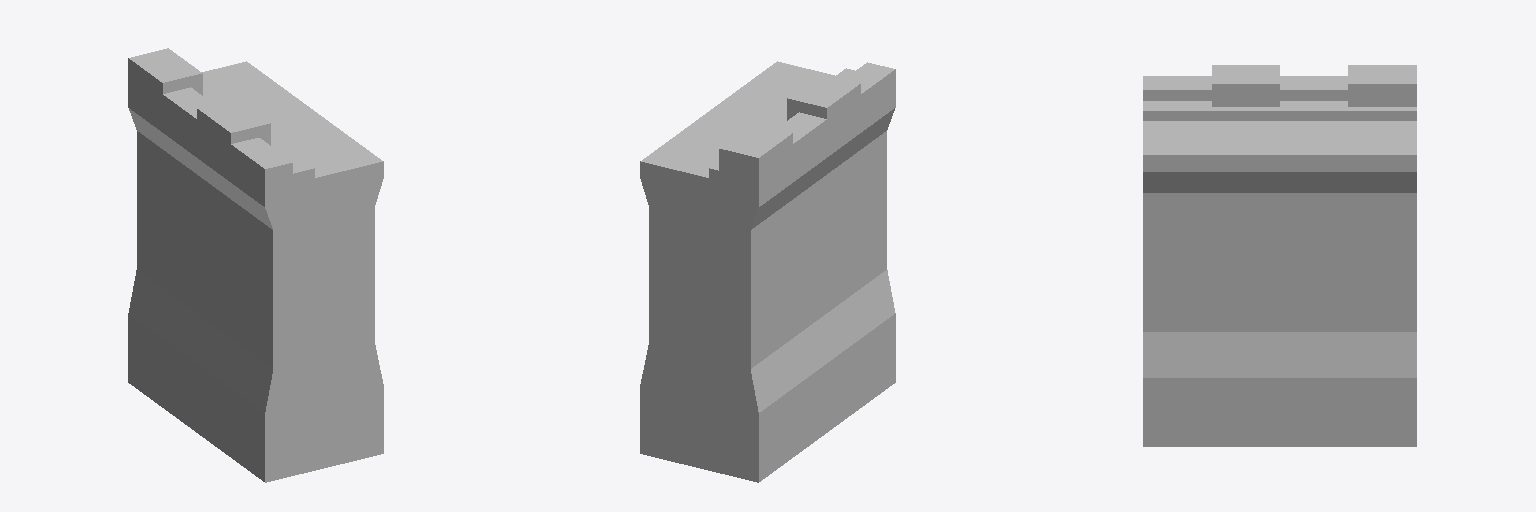
The model's file is wallNarrow.obj.
3 renders of one model, left to right at view 1: azimuth 30°, elevation 25°; view 2: azimuth 150°, elevation 25°; view 3: azimuth 270°, elevation 25°, orthographic.
Parts seen in each view (by area): view 1: wallNarrow; view 2: wallNarrow; view 3: wallNarrow.
Part boxes in pixels (bbox=[...]): wallNarrow: bbox=[128, 48, 383, 482]; wallNarrow: bbox=[640, 61, 895, 482]; wallNarrow: bbox=[1143, 65, 1416, 446].
Size of the model in its own units: 5 by 13.1 by 10.